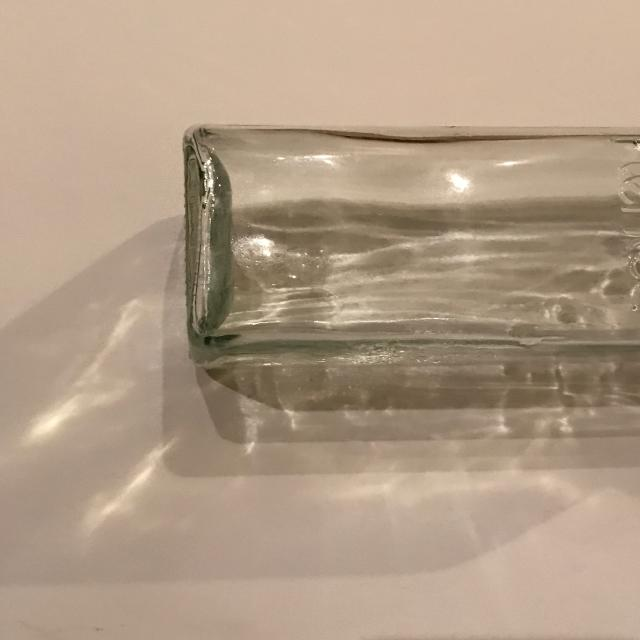glass: (182, 123, 639, 354)
